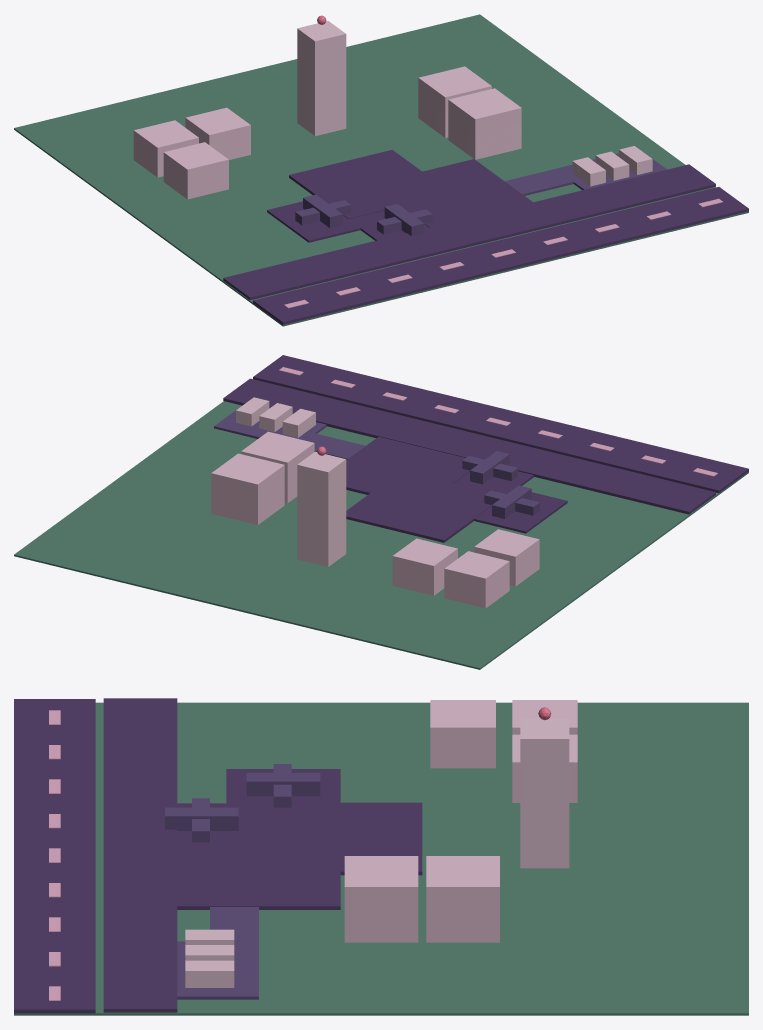
Rendered from stage_13.glb.
3 views of the same model, one above another, from view 1: azimuth 30°, elevation 25°; view 2: azimuth 150°, elevation 25°; view 3: azimuth 270°, elevation 25° (orthographic). The views are drawn at different scales.
Parts seen in each view (by area): view 1: geometry_0; view 2: geometry_0; view 3: geometry_0.
Part boxes in pixels (box(x1,y1,x2,y2)): geometry_0: box(14, 14, 748, 326); geometry_0: box(14, 355, 748, 669); geometry_0: box(14, 698, 748, 1015).
Size of the model in its own units: 9 by 2.06 by 9.
